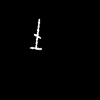double_crochet: (31, 19, 40, 49)
